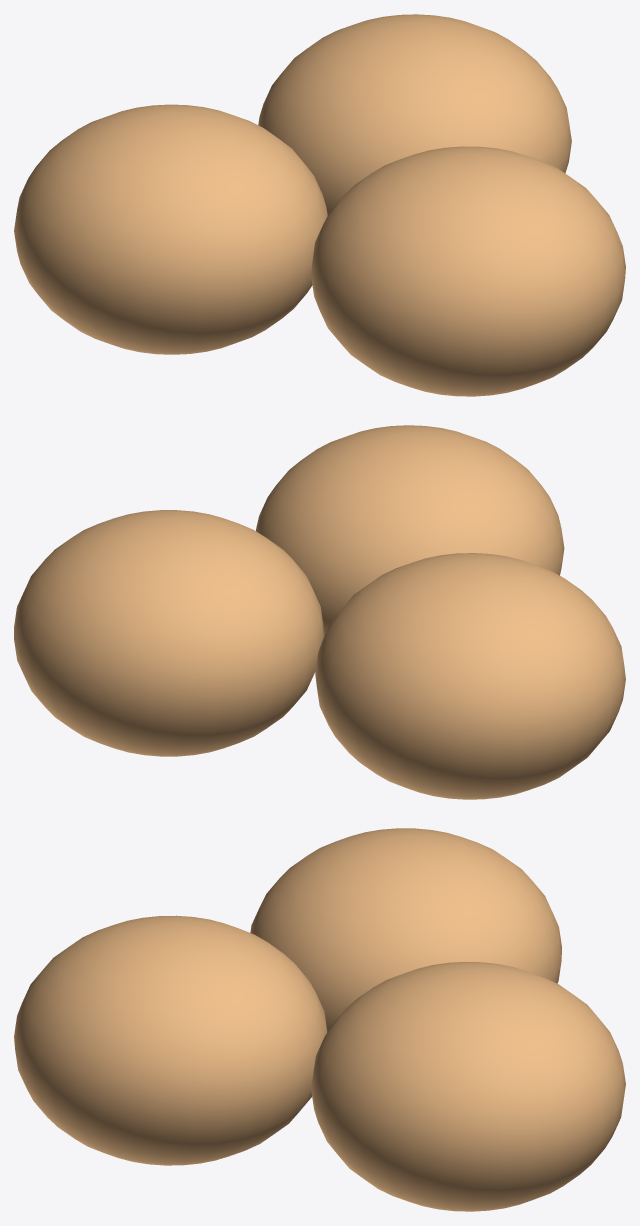
Rendered from burntondeh5.fbx.
The picture shows the model from 3 angles, top to bottom: view 1: azimuth 30°, elevation 25°; view 2: azimuth 150°, elevation 25°; view 3: azimuth 270°, elevation 25°; orthographic projection.
Parts seen in each view (by area): view 1: Sphere.090, Sphere.002, Sphere.092; view 2: Sphere.002, Sphere.092, Sphere.090; view 3: Sphere.092, Sphere.090, Sphere.002.
Part boxes in pixels (bbox=[...]): Sphere.090: bbox=[311, 146, 625, 396]; Sphere.002: bbox=[14, 104, 327, 354]; Sphere.092: bbox=[258, 14, 571, 215]; Sphere.002: bbox=[315, 553, 625, 799]; Sphere.092: bbox=[14, 510, 323, 756]; Sphere.090: bbox=[256, 425, 564, 636]; Sphere.092: bbox=[311, 961, 625, 1211]; Sphere.090: bbox=[14, 915, 327, 1165]; Sphere.002: bbox=[250, 828, 561, 1031].
Size of the model in its own units: 130 by 48.17 by 126.
